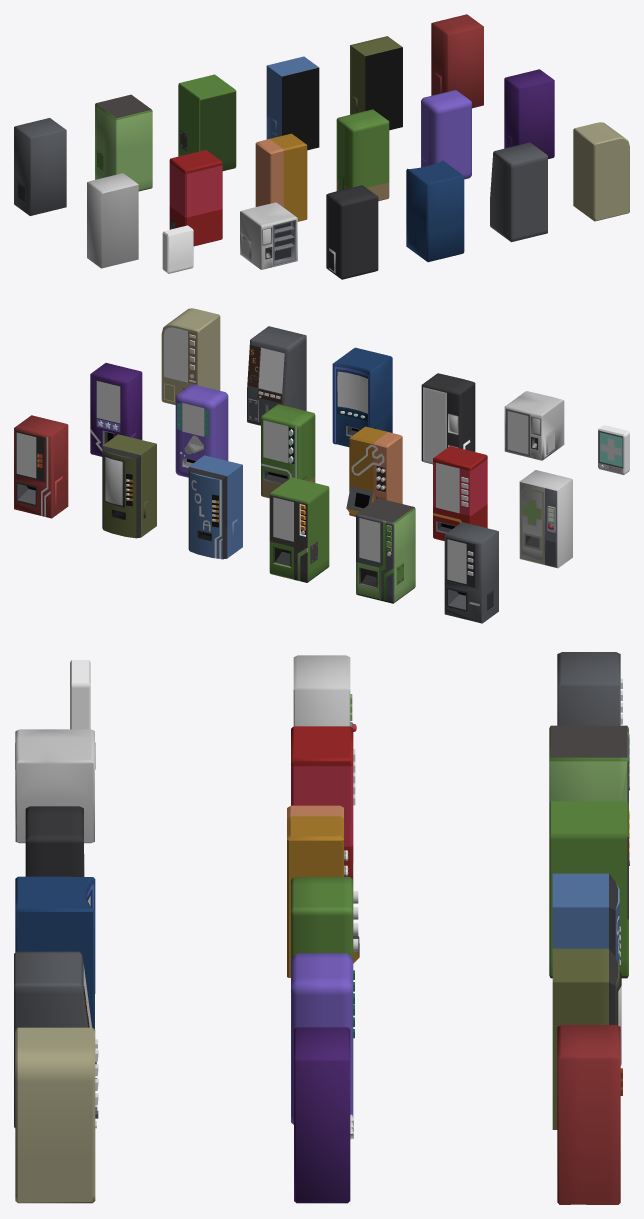
Rendered from VendingMachines.fbx.
3 renders of one model, top to bottom at view 1: azimuth 30°, elevation 25°; view 2: azimuth 150°, elevation 25°; view 3: azimuth 270°, elevation 25°, orthographic. The views are drawn at different scales.
Visible parts, largest first — view 1: Vendomat, SecTech, PTech, CigaretteMachine, NutriMax, MegaSeed, NanoMedPlus, BoozeOMat, AutoDrobe, RobustSoftDrinks, MegaSeedServitor, HotDrinks (+6 smaller); view 2: RobustSoftDrinks, HotDrinks, MegaSeed, NutriMax, NanoMedPlus, CigaretteMachine, Getmore, YouTool, Vendomat, SecTech, Dinnerware, AutoDrobe (+19 smaller); view 3: PTech, Getmore, MagiVend, MegaSeed, ChemicalFridge, Vendomat, NutriMax, HotDrinks, AutoDrobe, SecTech, Dinnerware, RobustSoftDrinks (+6 smaller).
Boxes of the visible parts, x1,y1,x2,y2 form: Vendomat: [406, 160, 464, 262]; SecTech: [490, 142, 547, 242]; PTech: [573, 122, 629, 221]; CigaretteMachine: [14, 118, 66, 215]; NutriMax: [95, 94, 152, 191]; MegaSeed: [178, 74, 236, 170]; NanoMedPlus: [87, 173, 138, 268]; BoozeOMat: [326, 185, 378, 279]; AutoDrobe: [169, 150, 222, 246]; RobustSoftDrinks: [266, 56, 319, 150]; MegaSeedServitor: [336, 109, 389, 201]; HotDrinks: [350, 36, 402, 130]; RobustSoftDrinks: [188, 455, 242, 559]; HotDrinks: [102, 434, 156, 538]; MegaSeed: [269, 477, 329, 582]; NutriMax: [356, 498, 415, 603]; NanoMedPlus: [519, 470, 572, 568]; CigaretteMachine: [444, 522, 498, 623]; Getmore: [14, 415, 68, 518]; YouTool: [346, 426, 402, 516]; Vendomat: [332, 347, 392, 446]; SecTech: [247, 326, 306, 425]; Dinnerware: [175, 384, 228, 477]; AutoDrobe: [433, 446, 487, 540]; PTech: [15, 1027, 98, 1203]; Getmore: [557, 1025, 622, 1204]; MagiVend: [294, 1027, 353, 1203]; MegaSeed: [549, 801, 629, 978]; ChemicalFridge: [15, 729, 95, 843]; Vendomat: [15, 876, 95, 1028]; NutriMax: [549, 725, 629, 803]; HotDrinks: [552, 948, 621, 1129]; AutoDrobe: [291, 726, 355, 879]; SecTech: [14, 951, 96, 1127]; Dinnerware: [291, 953, 354, 1124]; RobustSoftDrinks: [552, 873, 620, 964].
Size of the model in its own units: 10.9 by 1.84 by 6.92.
